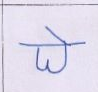e_matra: (44, 26, 69, 43)
